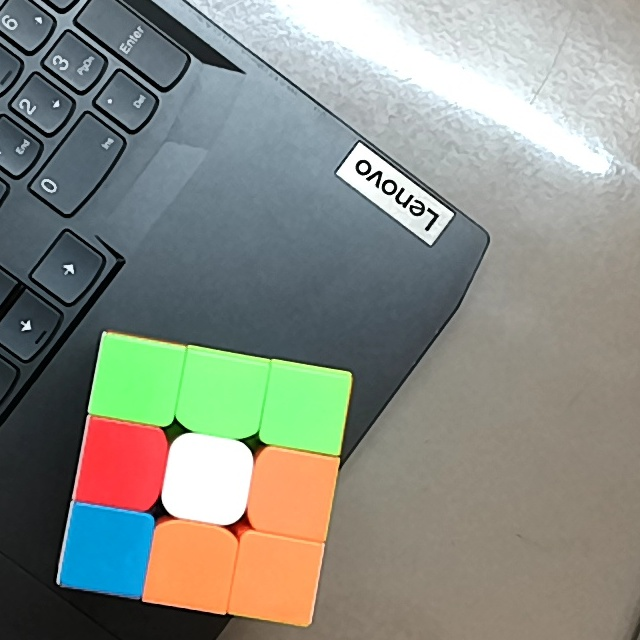tile: (156, 534, 225, 602), (243, 545, 314, 610), (71, 519, 140, 584), (259, 461, 325, 527), (102, 348, 170, 412), (191, 360, 256, 426), (273, 373, 337, 440), (88, 431, 154, 495), (179, 447, 241, 513)
